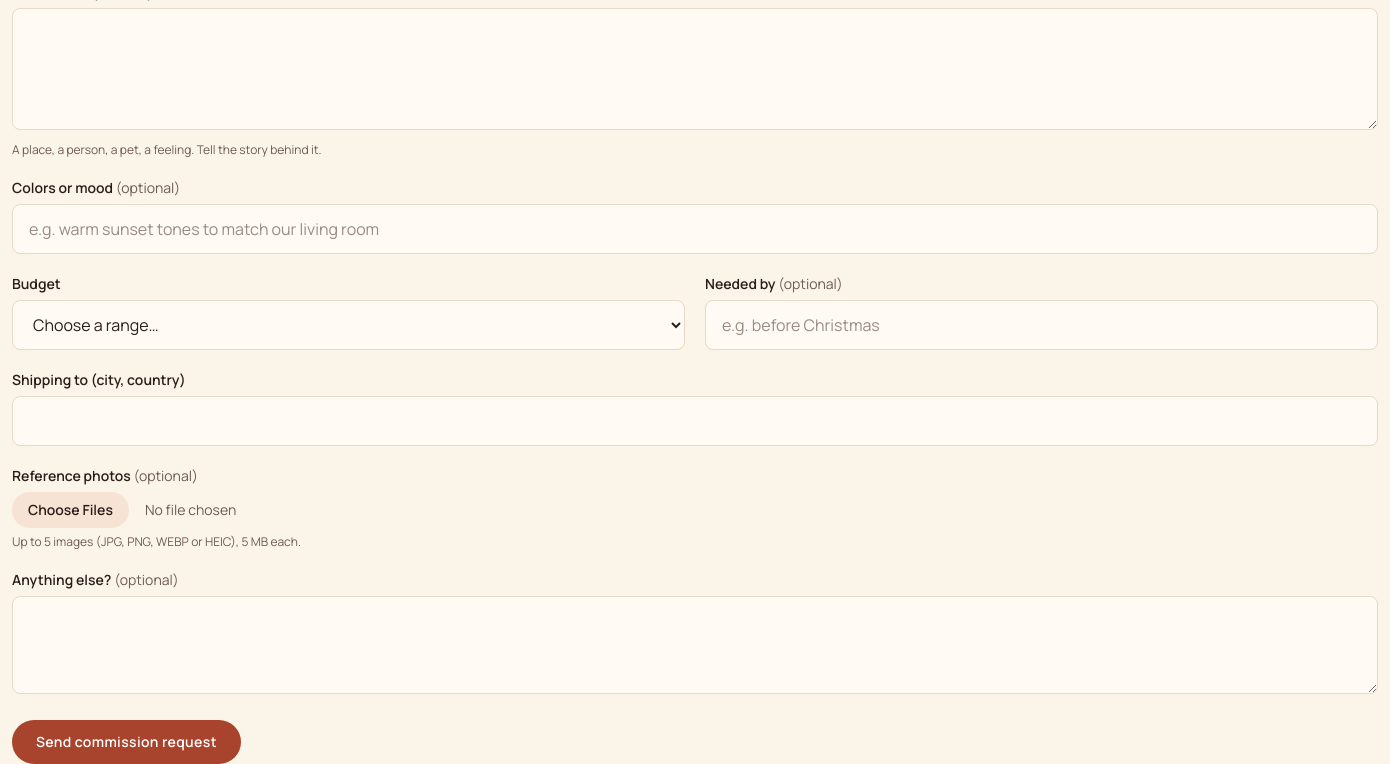
Test: CommissionForm › highlights field errors and keeps what was entered
The image size is (1390, 764).
(page scrolled)
Click the button "Send commission request": (126, 742) left=12, top=720, right=241, bottom=763
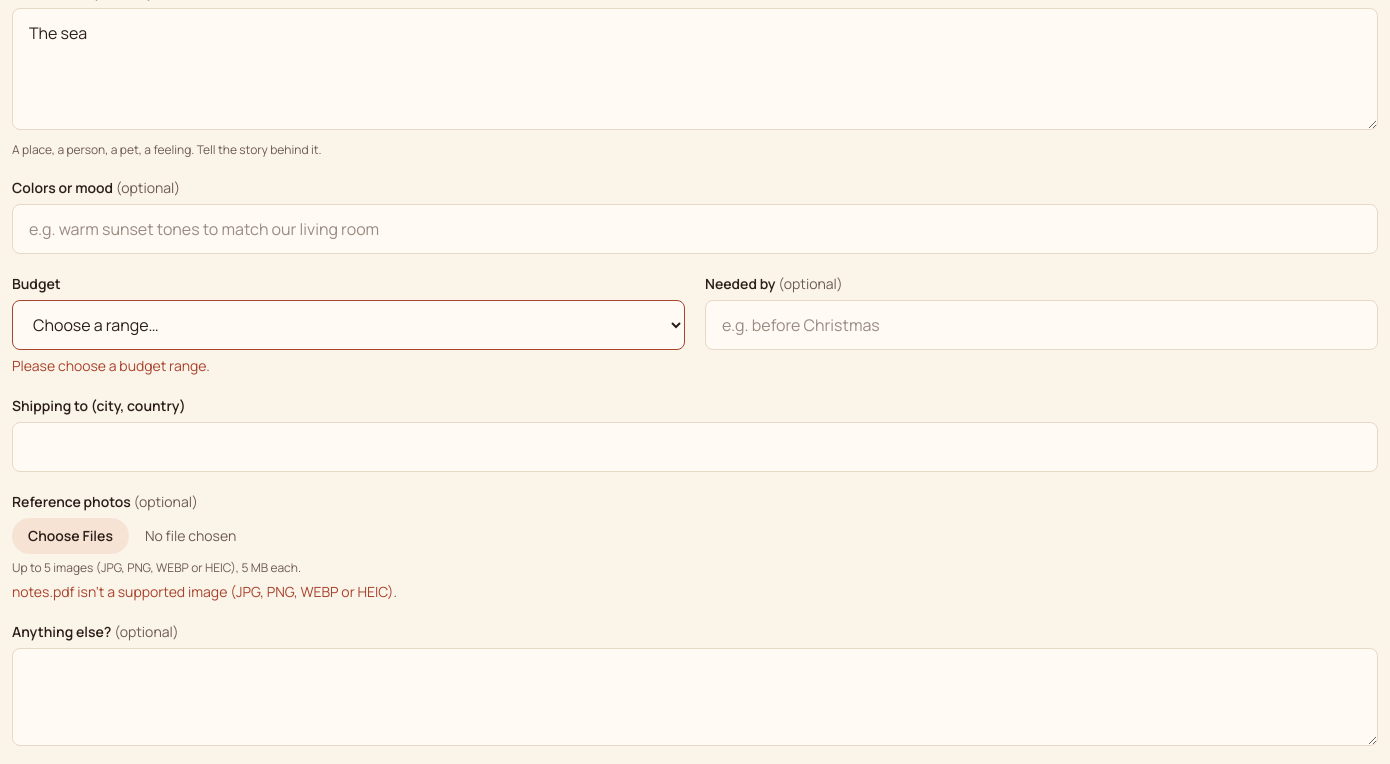
Expected: the dropdown labelled "Budget" shows "Choose a range…", left=12, top=300, right=685, bottom=350
Now the text box labelled "What would you like painted?" holds "The sea", box left=12, top=8, right=1378, bottom=130
